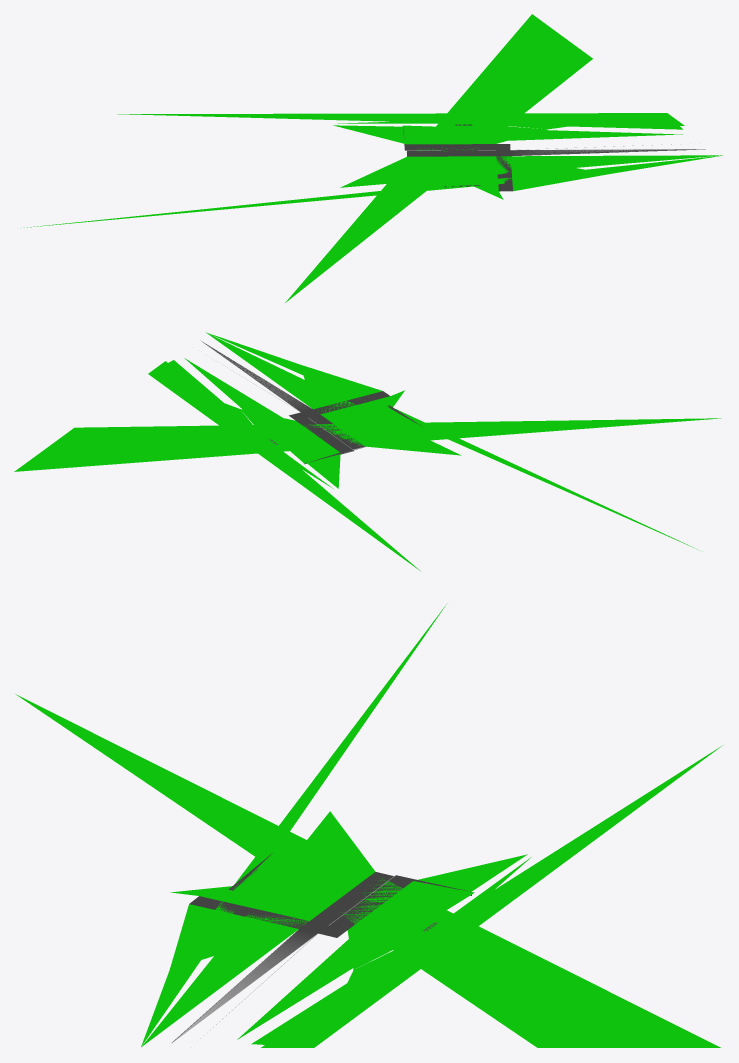
3 views of the same model, one above another, from view 1: azimuth 30°, elevation 25°; view 2: azimuth 150°, elevation 25°; view 3: azimuth 270°, elevation 25° (orthographic). The views are drawn at different scales.
Size of the model in its own units: 173 by 0.201 by 116.
